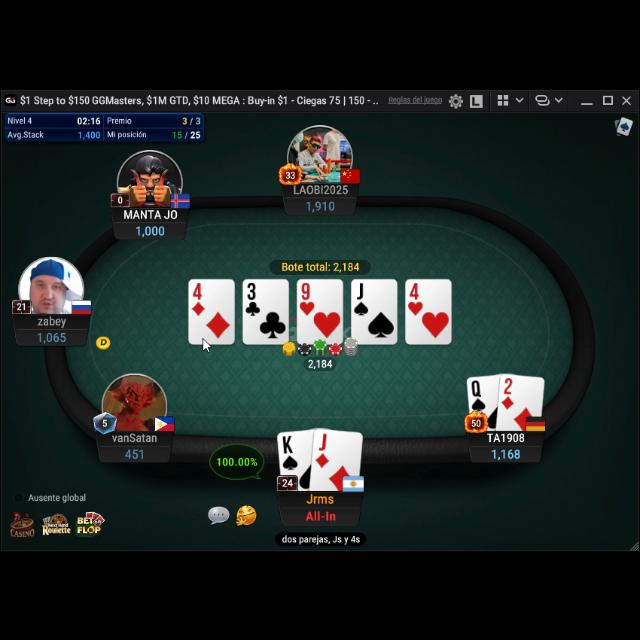2d: (500, 376, 516, 410)
3c: (244, 280, 262, 318)
4d: (190, 282, 207, 316)
4h: (406, 280, 424, 316)
9h: (298, 281, 316, 315)
Jd: (314, 432, 332, 468)
Js: (353, 280, 371, 318)
Ks: (282, 434, 300, 472)
Qs: (470, 378, 488, 412)
all_in_symbol: (304, 504, 340, 522)
dealer: (93, 331, 113, 351)
pot_text: (280, 259, 362, 271)
stack_text: (36, 328, 68, 342), (135, 222, 167, 236), (490, 445, 522, 459), (307, 197, 337, 211), (124, 445, 146, 459)
